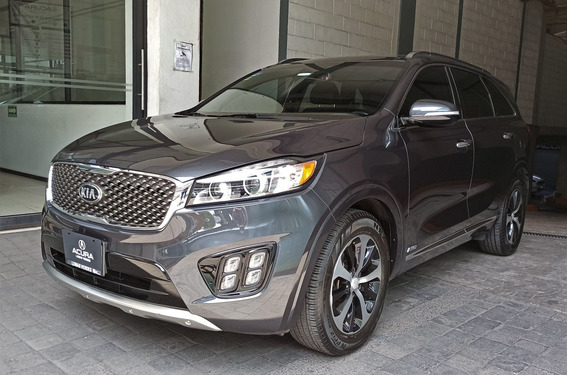Camioneta: (35, 50, 527, 323)
